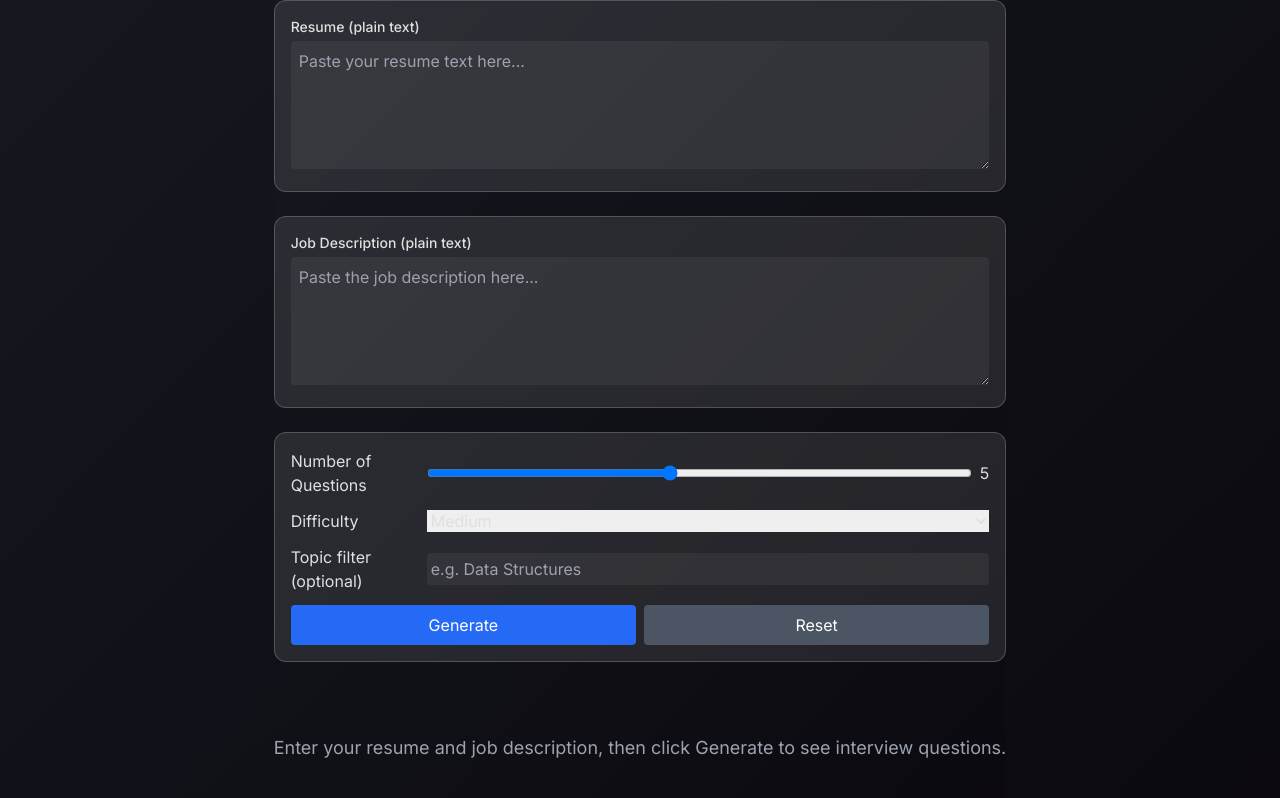
Test case: InterviewRAG integration › generates questions on button click
Step 1. Type "sample resume" into the text box labelled "Resume (plain text)" → (640, 105), box [291,41,989,169]
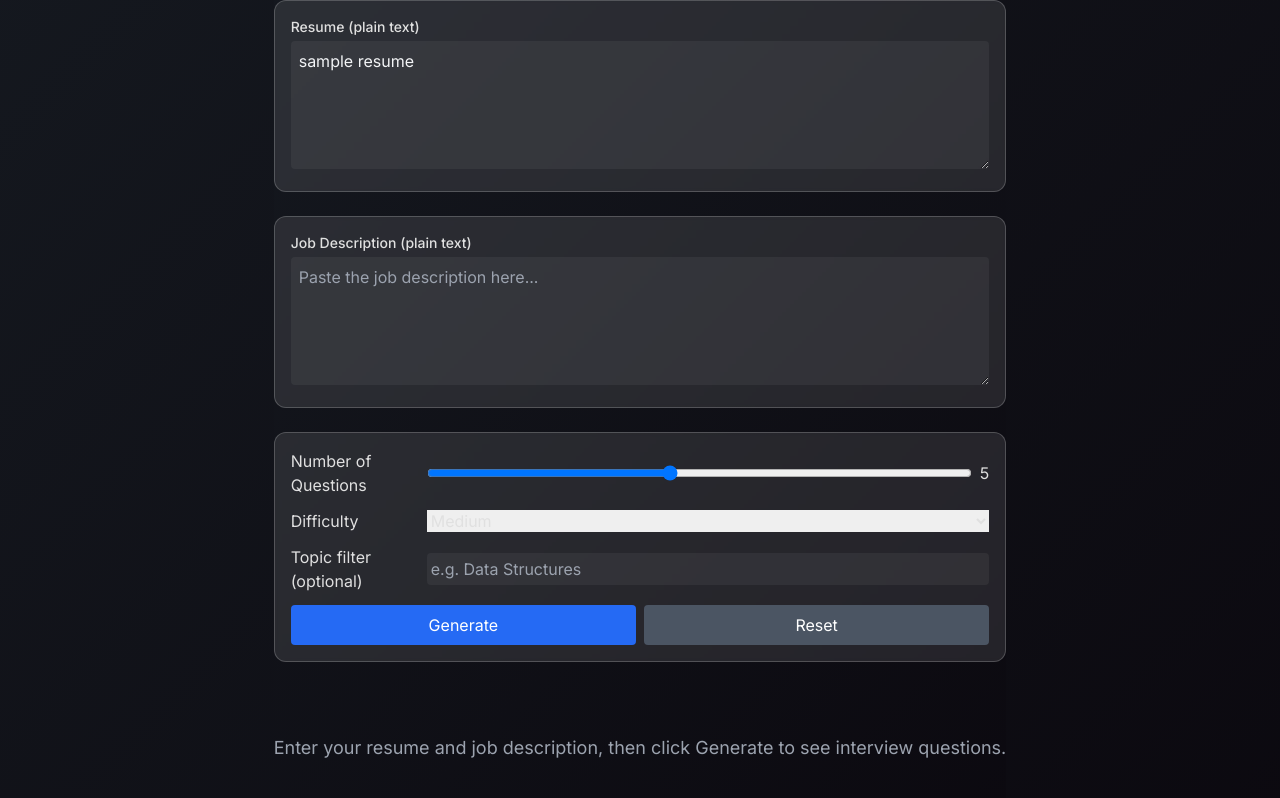
Step 2. Type "sample jd" into the text box labelled "Job Description (plain text)" → (640, 321), box [291,257,989,385]
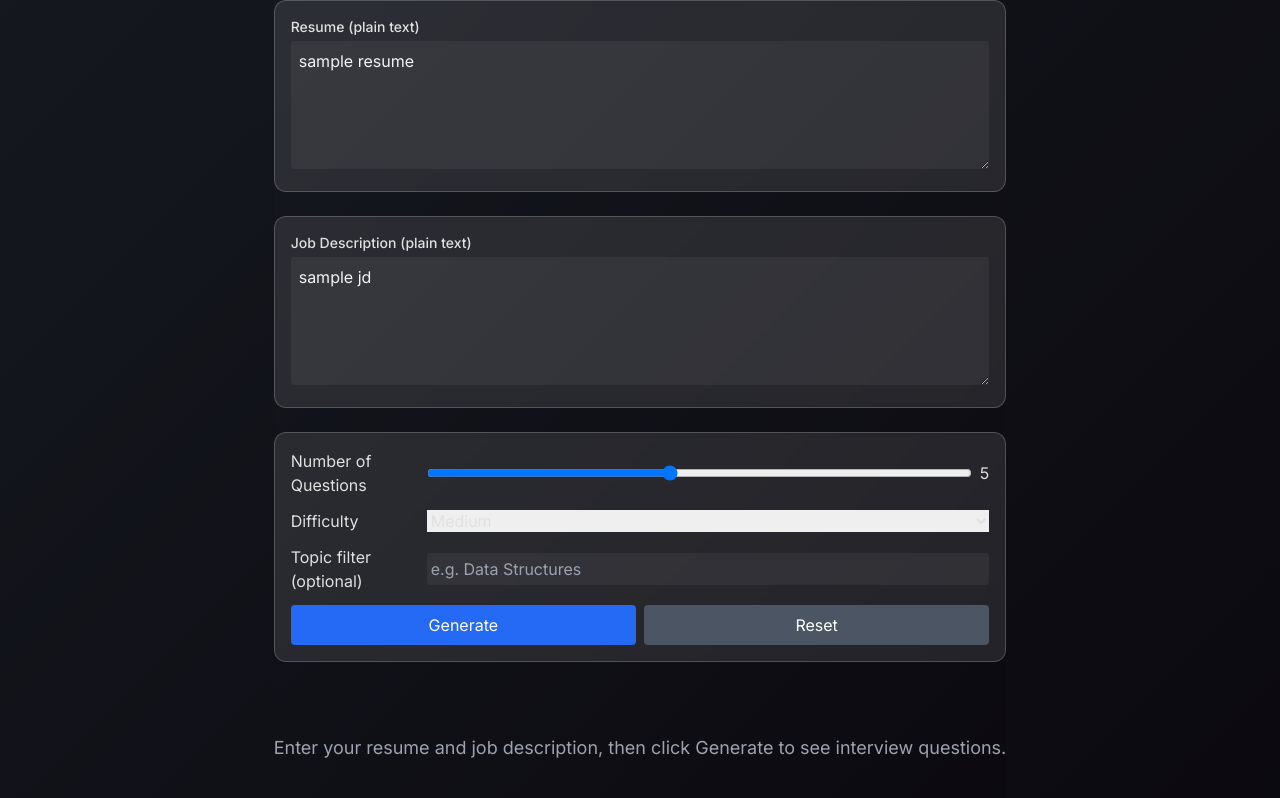
Step 3. Click the button "Generate" → (463, 625), box [291,605,636,645]
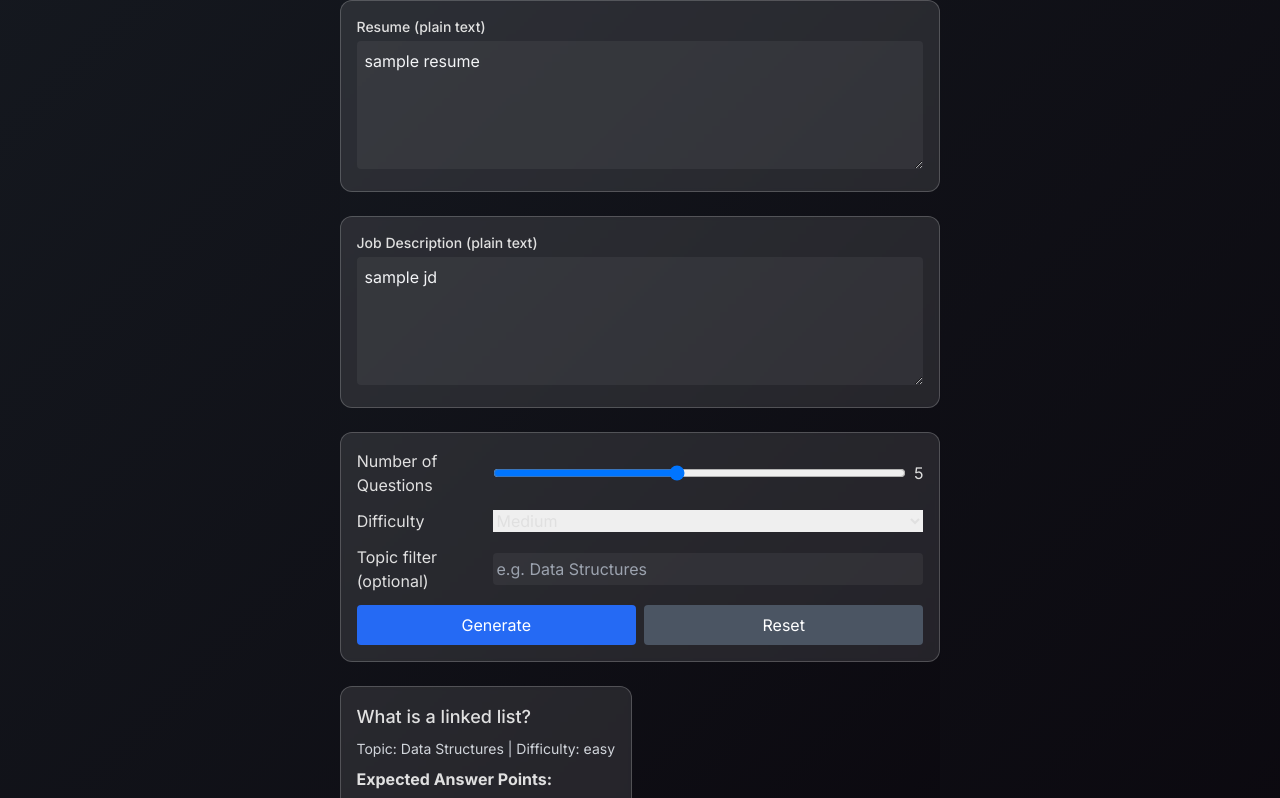
Result: the heading "What is a linked list?" is shown at [356,706,531,727]
